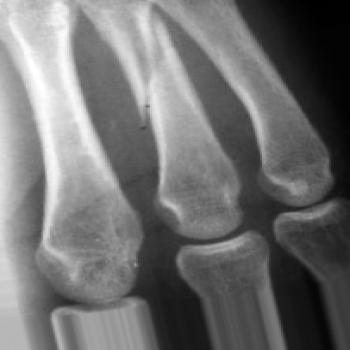Fracture: (111, 10, 171, 134)
